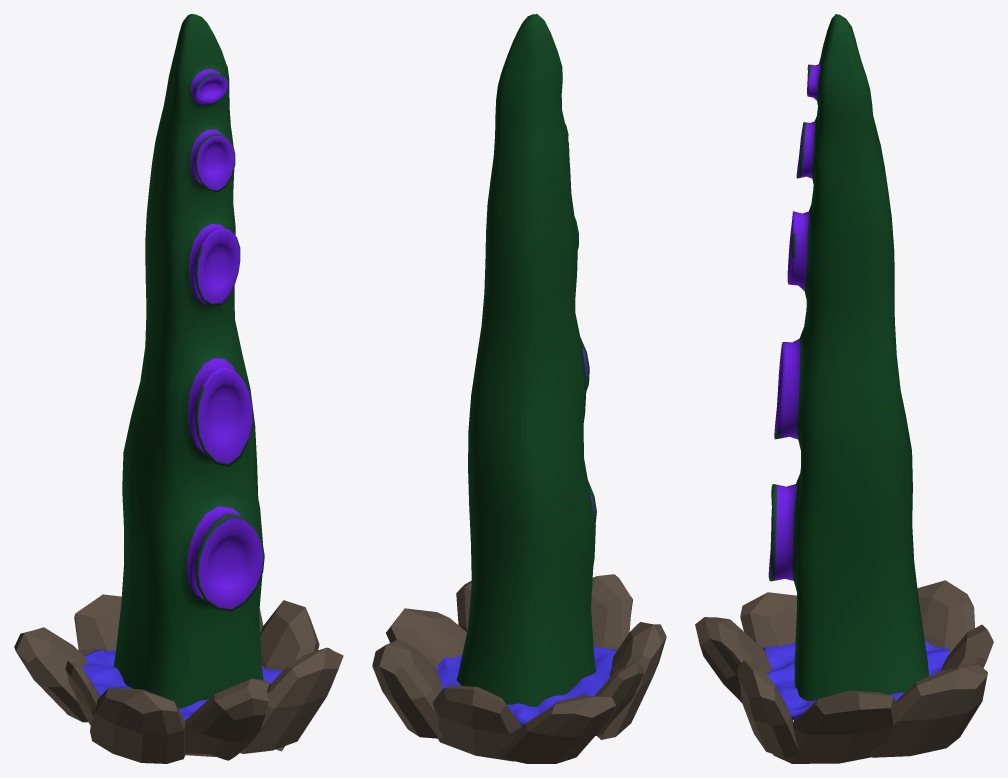
Rendered from tentacle.fbx.
3 renders of one model, left to right at view 1: azimuth 30°, elevation 25°; view 2: azimuth 150°, elevation 25°; view 3: azimuth 270°, elevation 25°, orthographic. The views are drawn at different scales.
Parts seen in each view (by area): view 1: Tentacle, Steine, portal; view 2: Tentacle, Steine, portal; view 3: Tentacle, Steine, portal.
Part boxes in pixels (<box>): Tentacle: <box>113,14,264,708</box>; Steine: <box>14,594,343,763</box>; portal: <box>82,650,282,720</box>; Tentacle: <box>456,14,596,706</box>; Steine: <box>372,574,666,763</box>; portal: <box>435,647,616,725</box>; Tentacle: <box>768,14,929,721</box>; Steine: <box>695,580,993,763</box>; portal: <box>763,640,949,720</box>.
Bounding box in the file's own units: 358 × 975 × 370.
